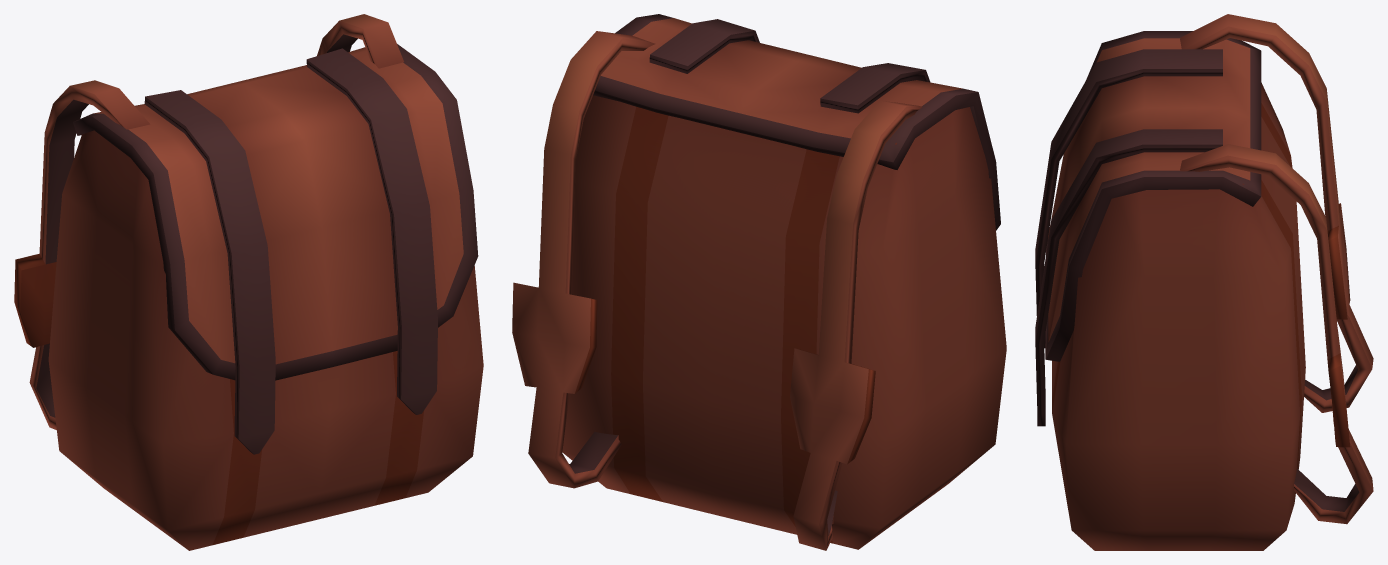
3 renders of one model, left to right at view 1: azimuth 30°, elevation 25°; view 2: azimuth 150°, elevation 25°; view 3: azimuth 270°, elevation 25°, orthographic. The views are drawn at different scales.
Visible parts, largest first — view 1: refl.089; view 2: refl.089; view 3: refl.089.
Part boxes in pixels (x1=…): refl.089: x1=14, y1=14, x2=483, y2=550; refl.089: x1=512, y1=14, x2=1006, y2=550; refl.089: x1=1035, y1=14, x2=1373, y2=550.
Bounding box in the file's own units: 0.427 × 0.5 × 0.375.
